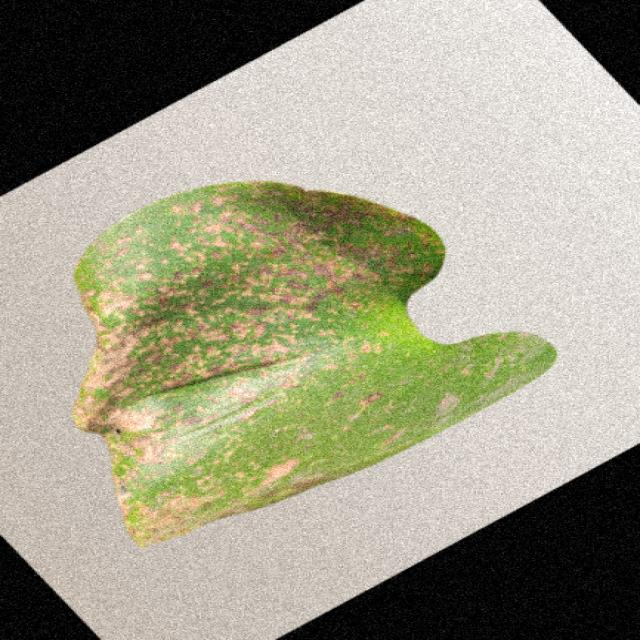daun berpenyakit bercak: (73, 181, 553, 546)
